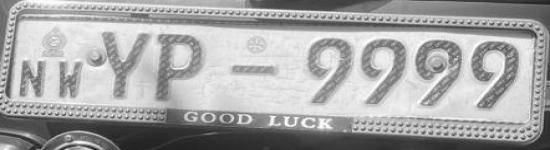-: (226, 61, 282, 81)
9: (465, 34, 522, 116), (300, 31, 355, 108), (356, 36, 412, 108), (414, 34, 464, 112)
N: (16, 57, 48, 98)
P: (153, 30, 212, 104)
W: (55, 57, 90, 100)
Y: (99, 27, 153, 103)
